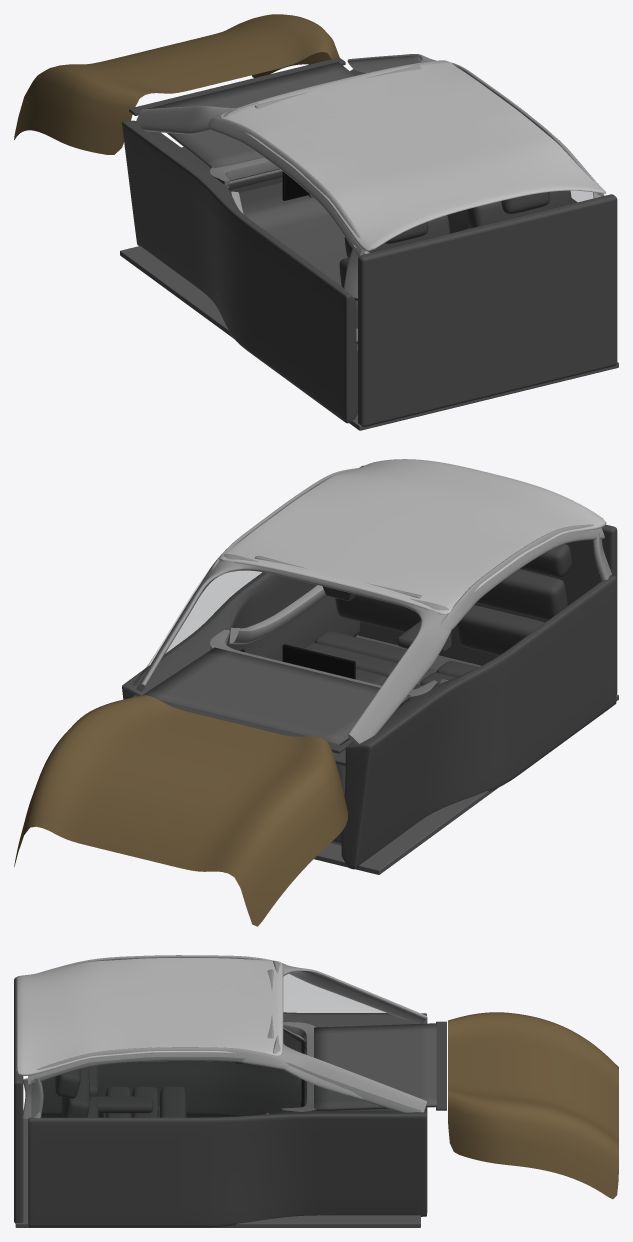
Rendered from cabin.a88de308.glb.
The picture shows the model from 3 angles, top to bottom: view 1: azimuth 30°, elevation 25°; view 2: azimuth 150°, elevation 25°; view 3: azimuth 270°, elevation 25°; orthographic projection. The views are drawn at different scales.
Visible parts, largest first — view 1: Cabin; view 2: Cabin, Glass; view 3: Cabin, Glass.
Part boxes in pixels (left/top/right/bottom): Cabin: left=14, top=14, right=618, bottom=430; Cabin: left=14, top=459, right=618, bottom=926; Glass: left=133, top=568, right=265, bottom=684; Cabin: left=14, top=955, right=618, bottom=1227; Glass: left=31, top=974, right=420, bottom=1117.
Size of the model in its own units: 1.72 by 1.21 by 3.82.
